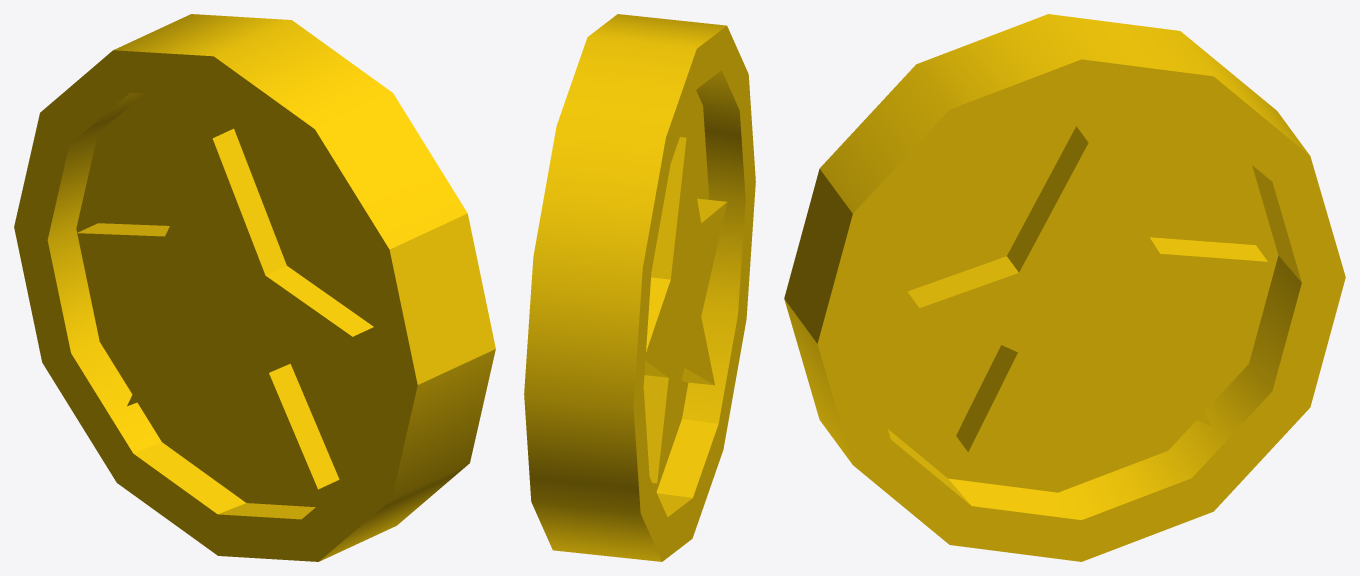
The model's file is монетка.fbx.
3 renders of one model, left to right at view 1: azimuth 30°, elevation 25°; view 2: azimuth 150°, elevation 25°; view 3: azimuth 270°, elevation 25°, orthographic.
Parts seen in each view (by area): view 1: Cylinder; view 2: Cylinder; view 3: Cylinder.
Part boxes in pixels (left/top/right/bottom): Cylinder: left=14, top=14, right=495, bottom=561; Cylinder: left=524, top=14, right=755, bottom=561; Cylinder: left=784, top=14, right=1345, bottom=561.
Size of the model in its own units: 57.38 by 117 by 119.
